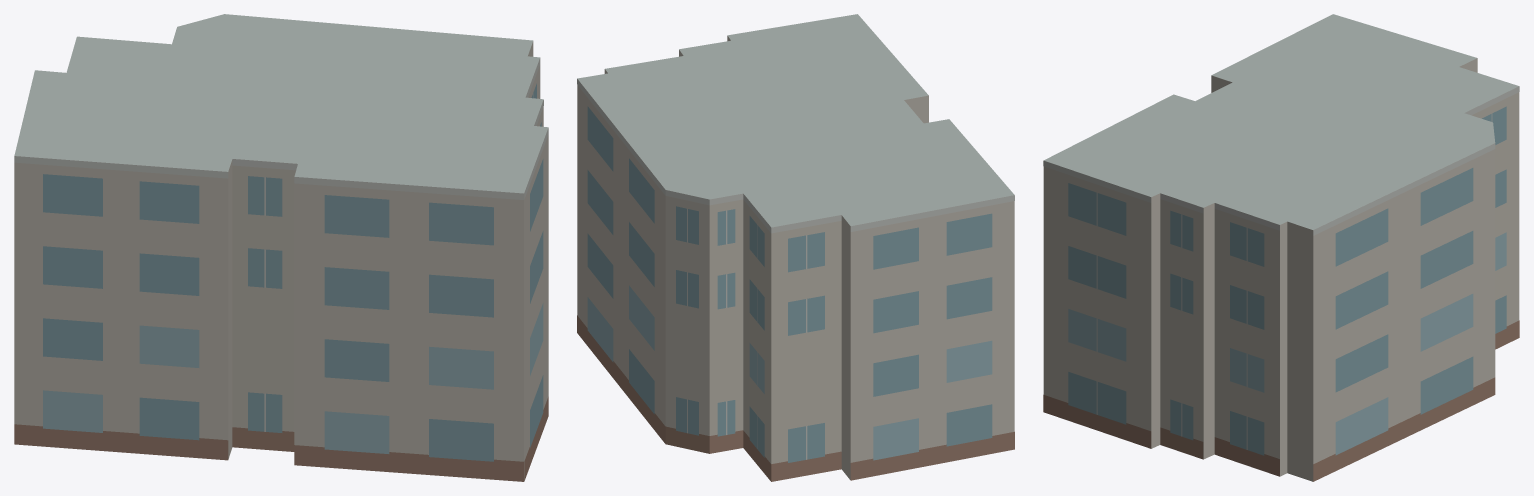
Rendered from survey-upis-32655369.glb.
3 views of the same model, side by side, from view 1: azimuth 30°, elevation 25°; view 2: azimuth 150°, elevation 25°; view 3: azimuth 270°, elevation 25° (orthographic). The views are drawn at different scales.
Visible parts, largest first — view 1: survey-upis-32655369.tmp; view 2: survey-upis-32655369.tmp; view 3: survey-upis-32655369.tmp.
Boxes of the visible parts, x1,y1,x2,y2 form: survey-upis-32655369.tmp: (14,14,548,481); survey-upis-32655369.tmp: (577,14,1014,481); survey-upis-32655369.tmp: (1043,14,1519,481).
Bounding box in the file's own units: 19.44 × 10.55 × 18.08.
